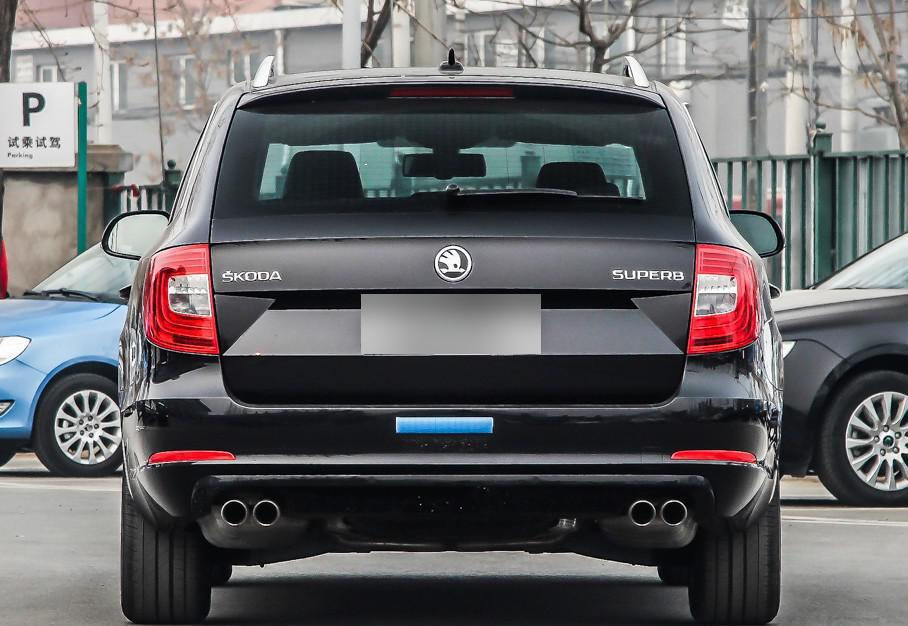Wagon: (100, 47, 787, 626)
